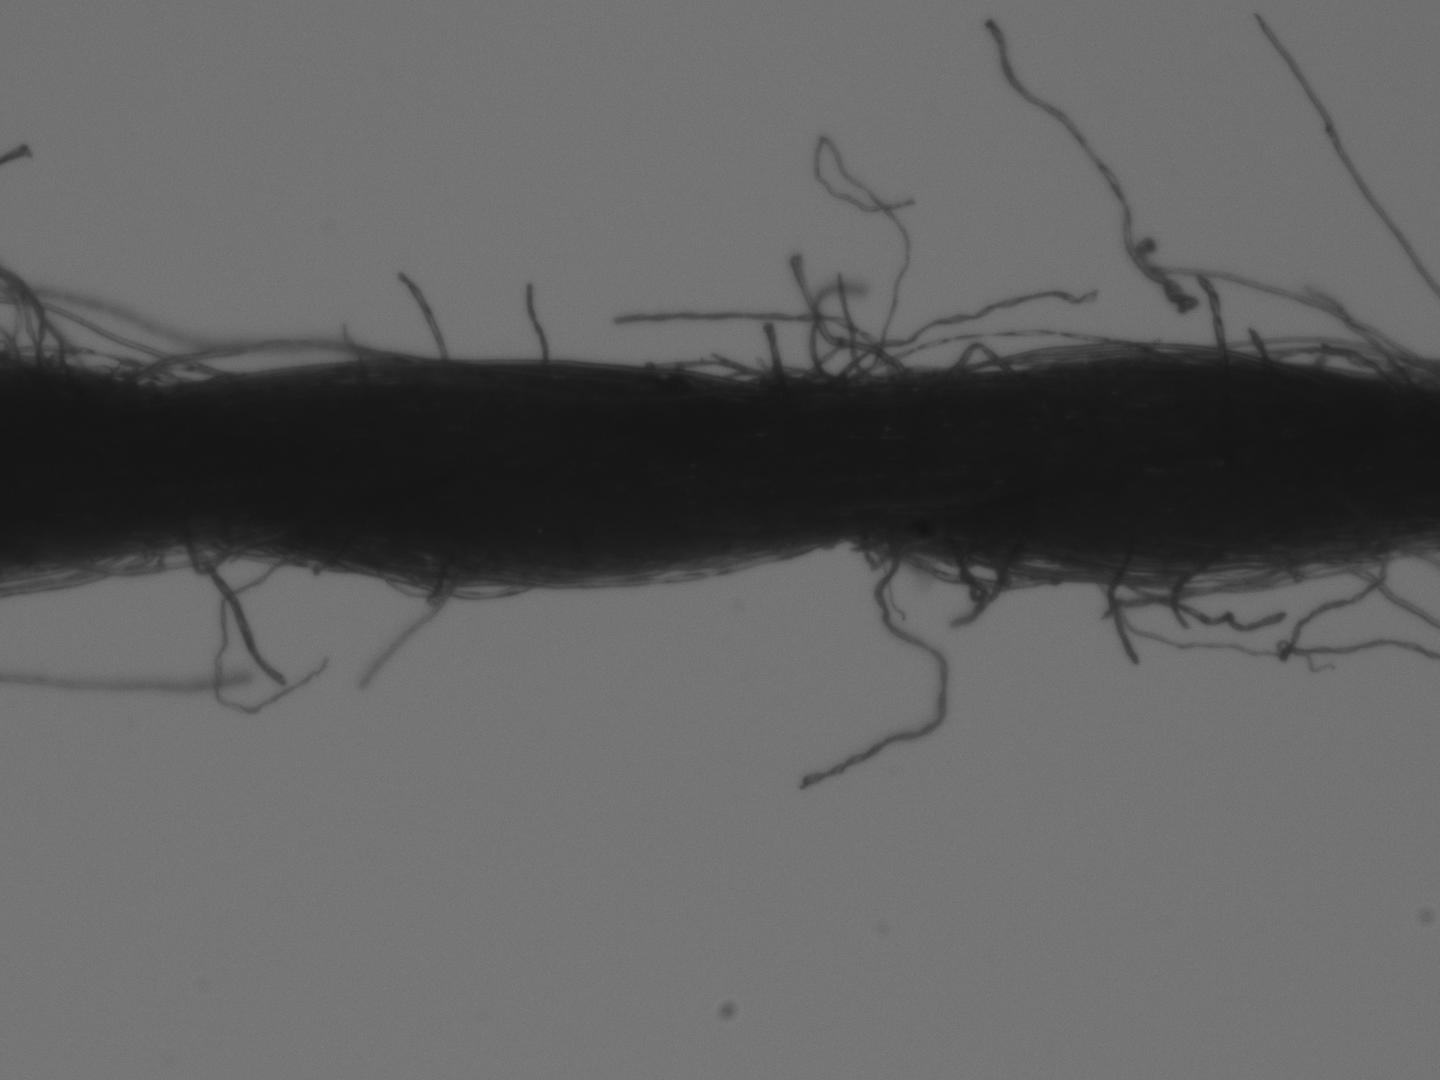loop_fiber: (857, 327, 1174, 382), (121, 334, 405, 383), (1111, 550, 1307, 611), (890, 542, 1068, 596), (374, 566, 525, 602), (1261, 344, 1397, 380), (18, 345, 153, 381), (941, 339, 1017, 378), (179, 530, 231, 576), (109, 360, 185, 391), (727, 371, 833, 386)
protruding_fiber: (794, 538, 954, 799), (189, 532, 285, 690), (358, 576, 454, 699), (396, 264, 457, 366), (1109, 545, 1138, 666), (1194, 271, 1225, 358), (525, 278, 557, 361), (761, 321, 793, 383)
